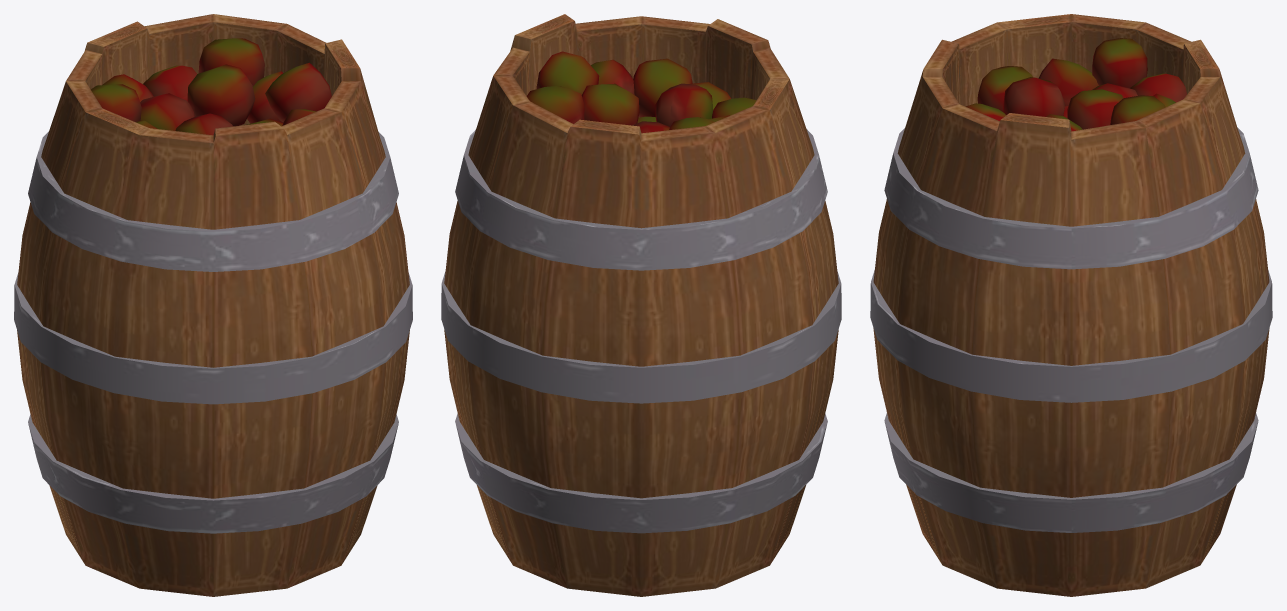
Rendered from Barrel_Apples.glb.
3 renders of one model, left to right at view 1: azimuth 30°, elevation 25°; view 2: azimuth 150°, elevation 25°; view 3: azimuth 270°, elevation 25°, orthographic.
Visible parts, largest first — view 1: Barrel_Apples; view 2: Barrel_Apples; view 3: Barrel_Apples.
Boxes of the visible parts, x1,y1,x2,y2 form: Barrel_Apples: (14, 14, 412, 596); Barrel_Apples: (441, 14, 841, 596); Barrel_Apples: (870, 14, 1272, 596).
Bounding box in the file's own units: 0.698 × 0.898 × 0.698.
3 materials, 3 textured.
